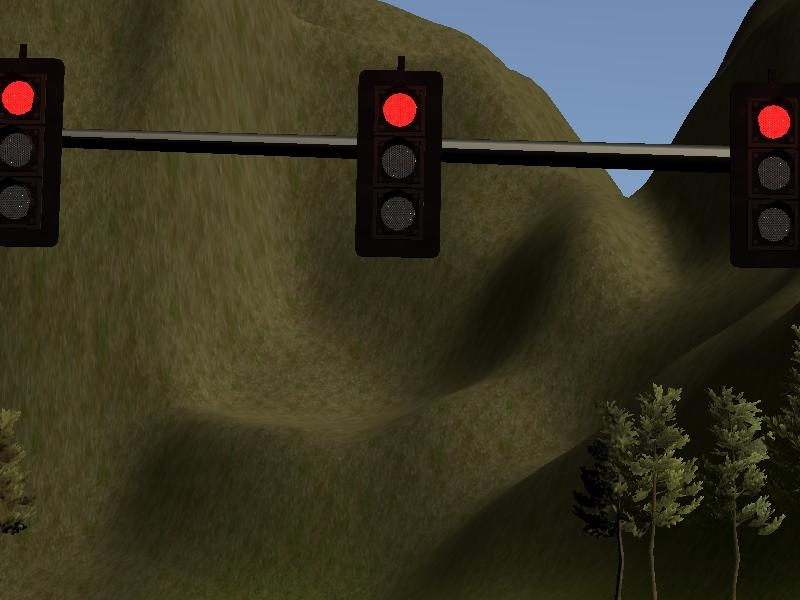red: (351, 62, 449, 267), (724, 74, 800, 271), (1, 60, 74, 249)
